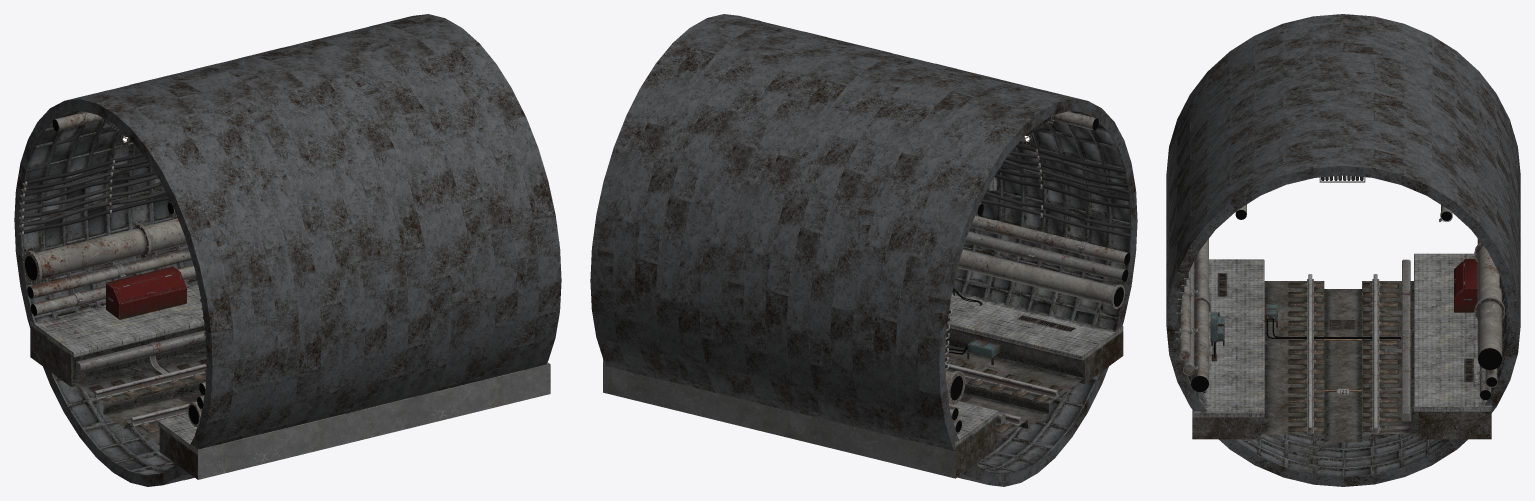
Rendered from metro_tube.glb.
The picture shows the model from 3 angles, left to right: view 1: azimuth 30°, elevation 25°; view 2: azimuth 150°, elevation 25°; view 3: azimuth 270°, elevation 25°; orthographic projection. The views are drawn at different scales.
Visible parts, largest first — view 1: walls_low_walls_0, ground_low_ground_part_0, pipes_low_pipes_0, decor_low_metro_decor_0; view 2: walls_low_walls_0, ground_low_ground_part_0, pipes_low_pipes_0, decor_low_metro_decor_0; view 3: walls_low_walls_0, ground_low_ground_part_0, pipes_low_pipes_0, decor_low_metro_decor_0.
Part boxes in pixels (bbox=[...]): walls_low_walls_0: bbox=[14, 14, 561, 486]; ground_low_ground_part_0: bbox=[30, 282, 550, 479]; pipes_low_pipes_0: bbox=[19, 112, 559, 426]; decor_low_metro_decor_0: bbox=[106, 134, 203, 403]; walls_low_walls_0: bbox=[590, 14, 1137, 486]; ground_low_ground_part_0: bbox=[603, 292, 1123, 478]; pipes_low_pipes_0: bbox=[945, 111, 1132, 432]; decor_low_metro_decor_0: bbox=[945, 134, 1075, 402]; walls_low_walls_0: bbox=[1166, 14, 1520, 486]; ground_low_ground_part_0: bbox=[1192, 253, 1491, 442]; pipes_low_pipes_0: bbox=[1175, 175, 1509, 399]; decor_low_metro_decor_0: bbox=[1210, 259, 1477, 394].
Bounding box in the file's own units: 16169 × 15649 × 15651.
4 materials, 4 textured.
